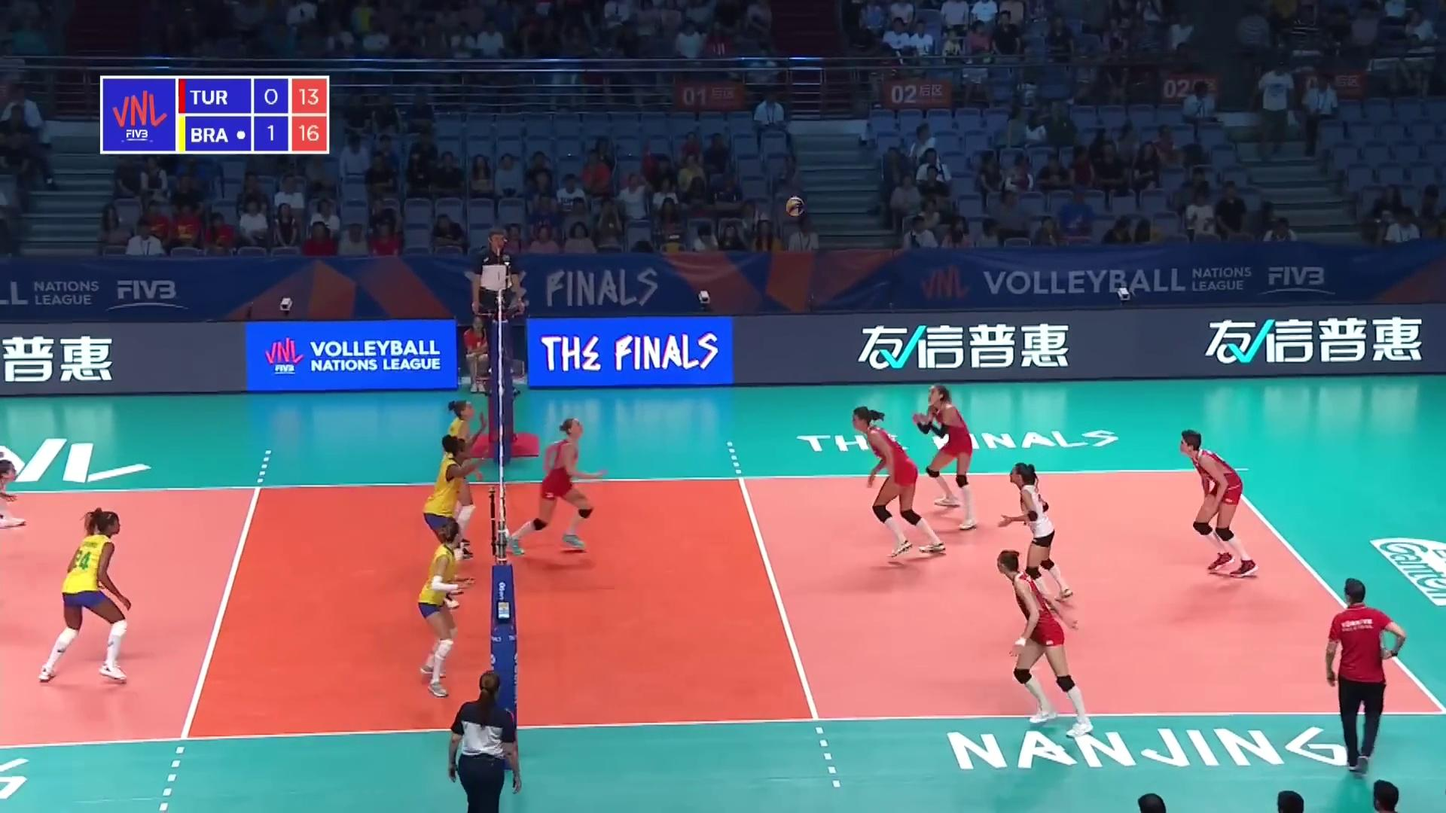player: (993, 548, 1094, 736), (42, 509, 134, 685), (850, 406, 945, 561), (509, 419, 607, 554), (1179, 432, 1260, 580), (1001, 464, 1075, 612), (427, 435, 480, 610), (914, 387, 977, 529), (416, 520, 463, 697), (446, 399, 474, 558)
refree: (444, 670, 523, 810), (471, 229, 520, 365)
